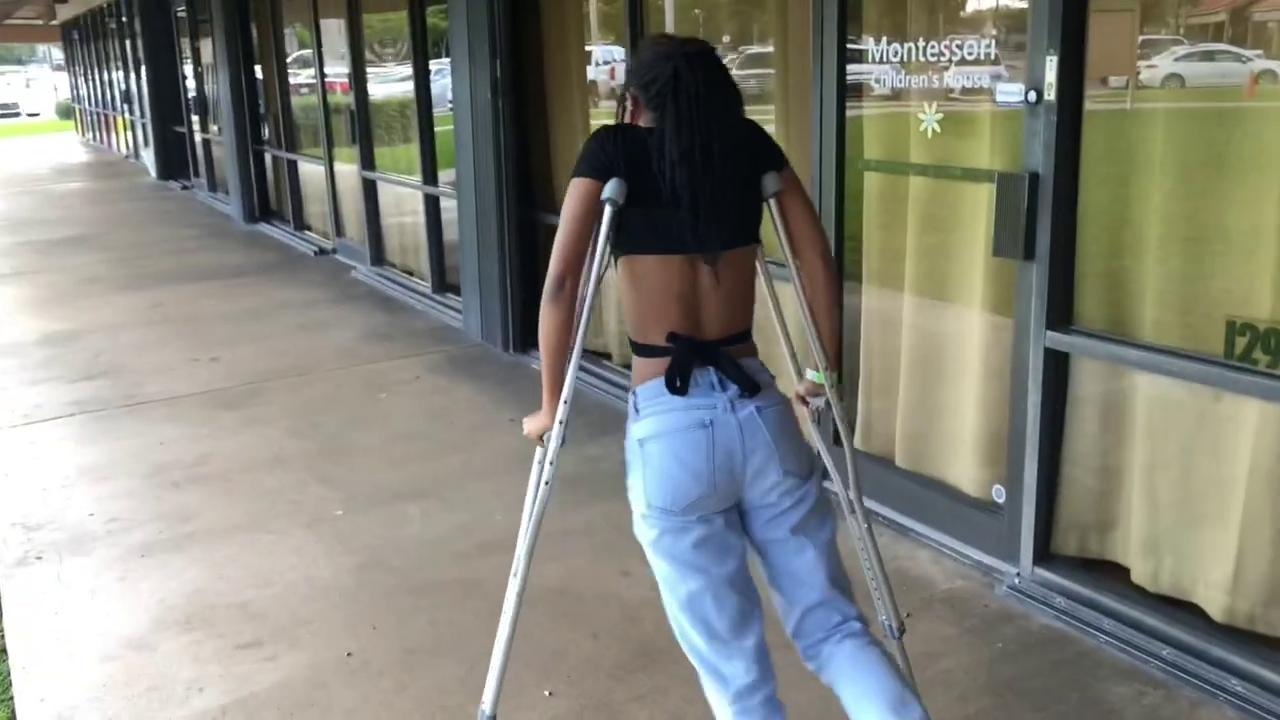crutches: (474, 33, 926, 719)
